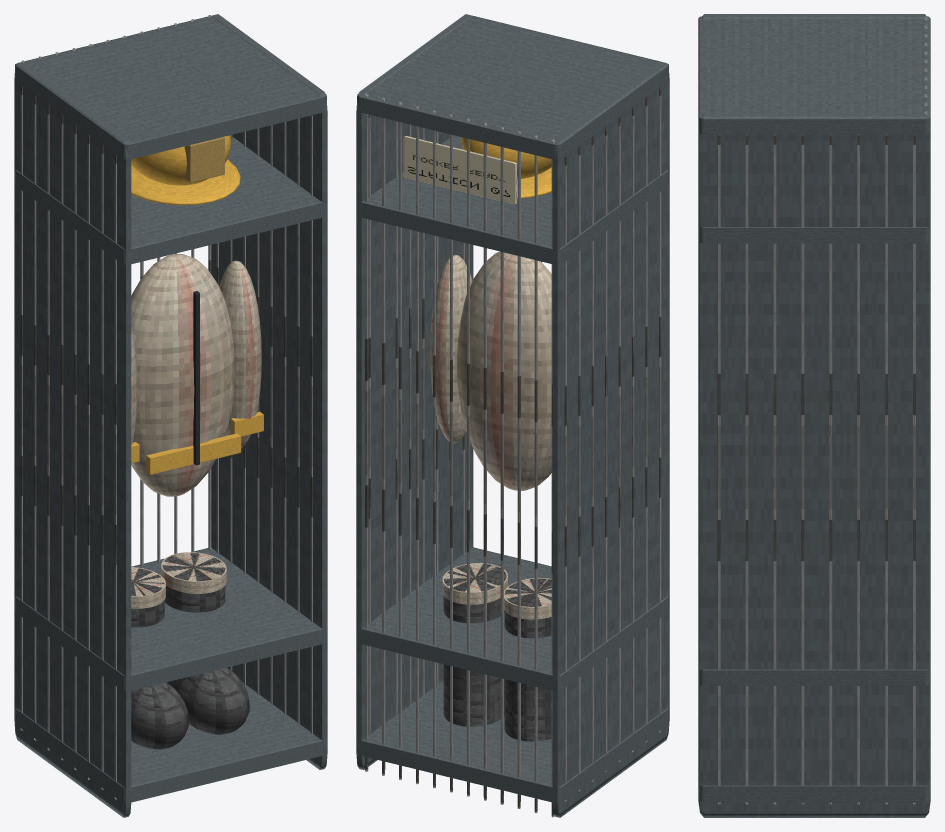
File: locker-ready.glb
The picture shows the model from 3 angles, left to right: view 1: azimuth 30°, elevation 25°; view 2: azimuth 150°, elevation 25°; view 3: azimuth 270°, elevation 25°; orthographic projection. The views are drawn at different scales.
Parts seen in each view (by area): view 1: side (×2), shelf (×4), rail (×14), coat-garment, boots-toe (×2), coat-sleeve (×2), boots-upper (×2), boots-collar (×2), helmet-brim, coat-hem-stripe, helmet-crown, helmet-shield (+2 smaller); view 2: side (×2), shelf (×4), back-wire (×12), rail (×13), coat-garment, boots-upper (×2), coat-sleeve, name, boots-collar (×2), helmet-crown, helmet-brim; view 3: side (×2), shelf (×4), rail (×8).
Part boxes in pixels (x1,y1,x2,y2): side (×2): [14, 14, 327, 817]; shelf (×4): [15, 15, 326, 802]; rail (×14): [20, 85, 312, 799]; coat-garment: [131, 254, 234, 496]; boots-toe (×2): [131, 667, 249, 749]; coat-sleeve (×2): [131, 260, 261, 447]; boots-upper (×2): [131, 553, 225, 687]; boots-collar (×2): [131, 552, 226, 608]; helmet-brim: [131, 159, 240, 205]; coat-hem-stripe: [146, 433, 241, 474]; helmet-crown: [131, 135, 230, 185]; helmet-shield: [184, 137, 224, 182]; side (×2): [356, 14, 669, 817]; shelf (×4): [357, 15, 668, 802]; back-wire (×12): [365, 93, 554, 817]; rail (×13): [368, 86, 661, 801]; coat-garment: [457, 251, 551, 490]; boots-upper (×2): [443, 564, 551, 741]; coat-sleeve: [430, 255, 472, 443]; name: [403, 136, 516, 204]; boots-collar (×2): [442, 563, 551, 619]; helmet-crown: [461, 137, 551, 179]; helmet-brim: [477, 167, 551, 198]; side (×2): [698, 14, 930, 817]; shelf (×4): [698, 16, 930, 801]; rail (×8): [717, 134, 915, 804].
Bounding box in the file's own units: 0.6 × 1.9 × 0.57.
8 materials, 8 textured.
